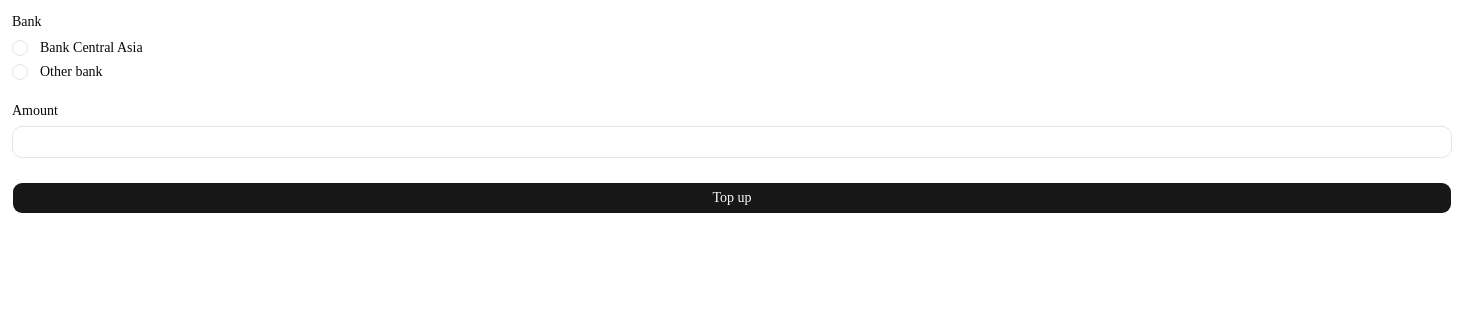
TopupForm › shows the validation message returned by the action
Click the button "Top up": click(732, 198) [12,182,1452,214]
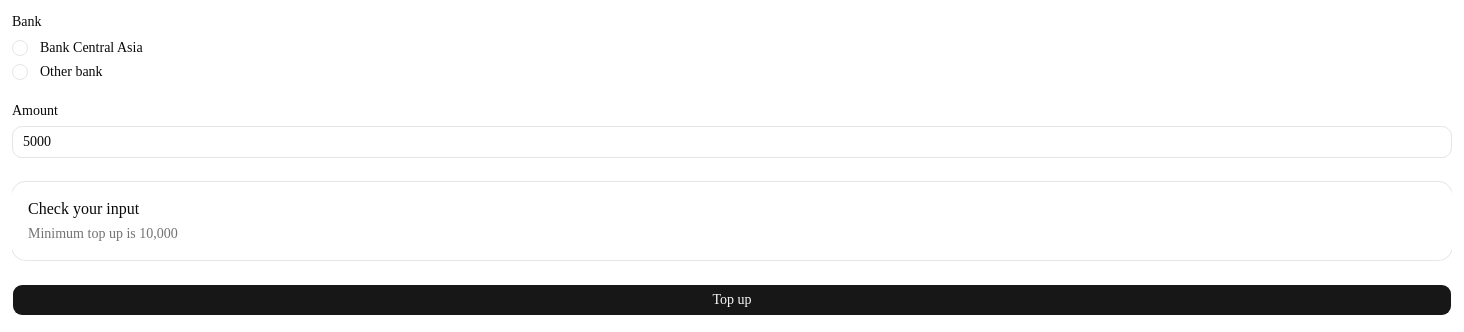
expect the message shows "Minimum top up is 10,000": met, box [28,226,178,241]
